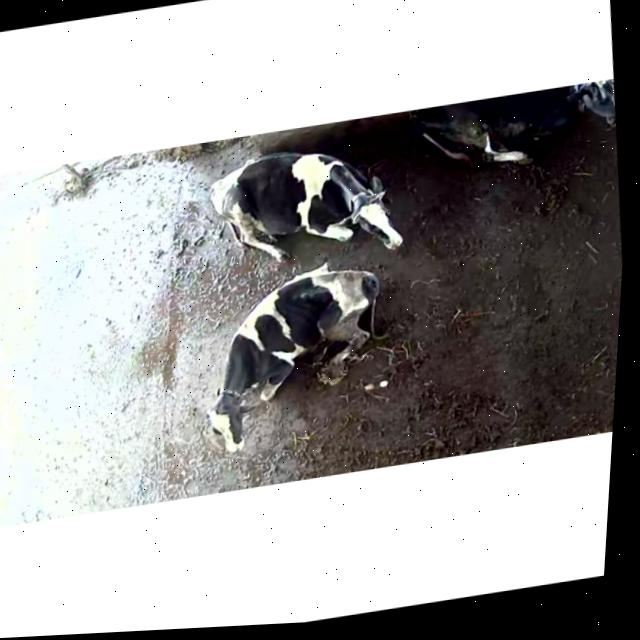lay: (166, 250, 427, 462), (197, 124, 413, 288), (409, 78, 621, 185)
